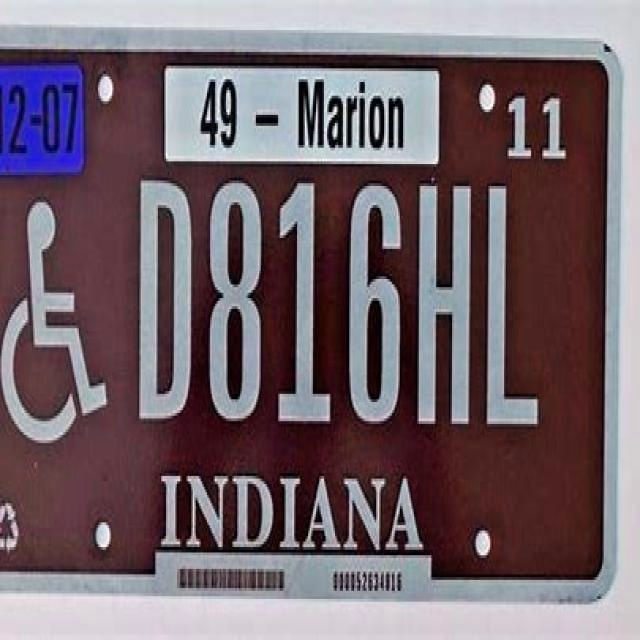ISA: (2, 201, 110, 443)
